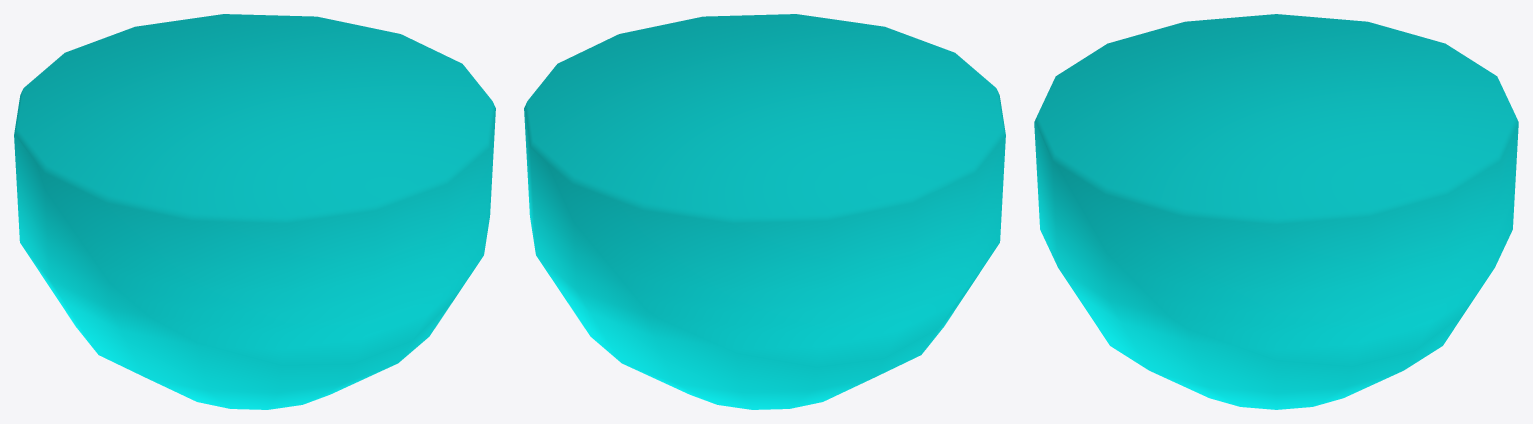
The model's file is WaterDrop_40.glb.
The picture shows the model from 3 angles, left to right: view 1: azimuth 30°, elevation 25°; view 2: azimuth 150°, elevation 25°; view 3: azimuth 270°, elevation 25°; orthographic projection.
Parts seen in each view (by area): view 1: WaterDrop_40; view 2: WaterDrop_40; view 3: WaterDrop_40.
Boxes of the visible parts, x1,y1,x2,y2 form: WaterDrop_40: [14, 14, 495, 409]; WaterDrop_40: [524, 14, 1005, 409]; WaterDrop_40: [1034, 14, 1518, 409].
Bounding box in the file's own units: 0.5885 × 0.3564 × 0.5885.
1 material, 1 textured.
